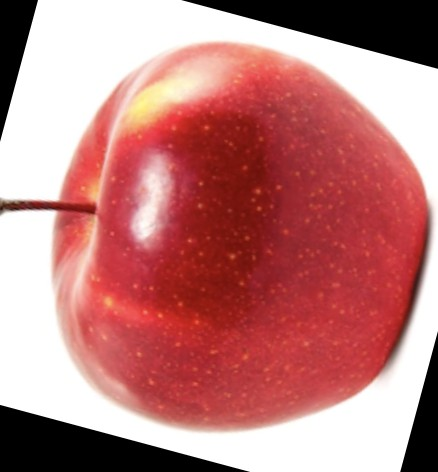fresh_apple: (49, 45, 430, 430)
